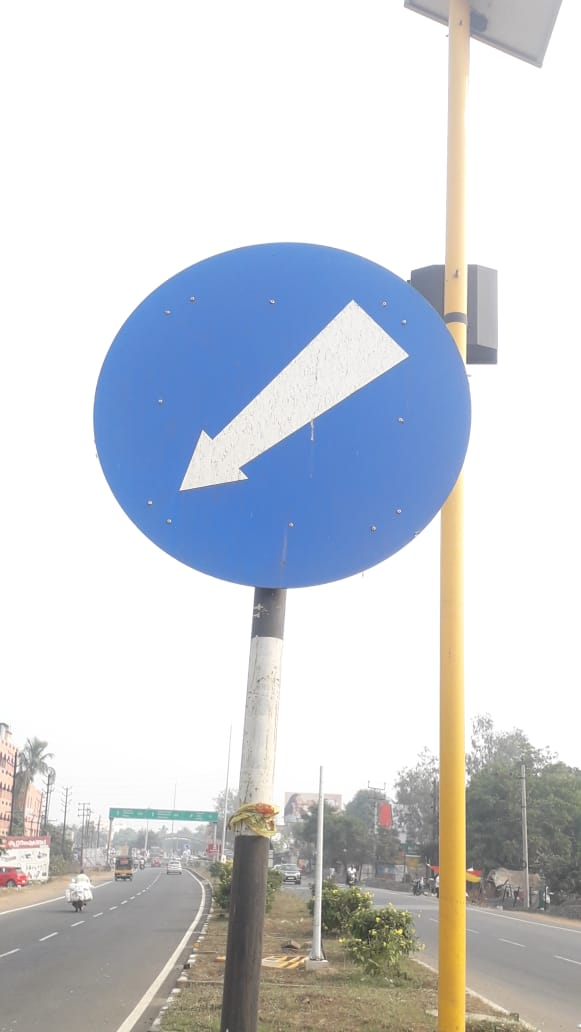go left: (85, 218, 493, 643)
